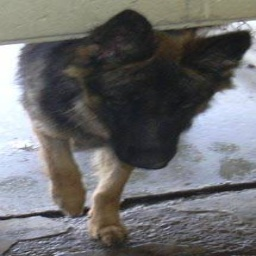dog: (16, 10, 250, 251)
